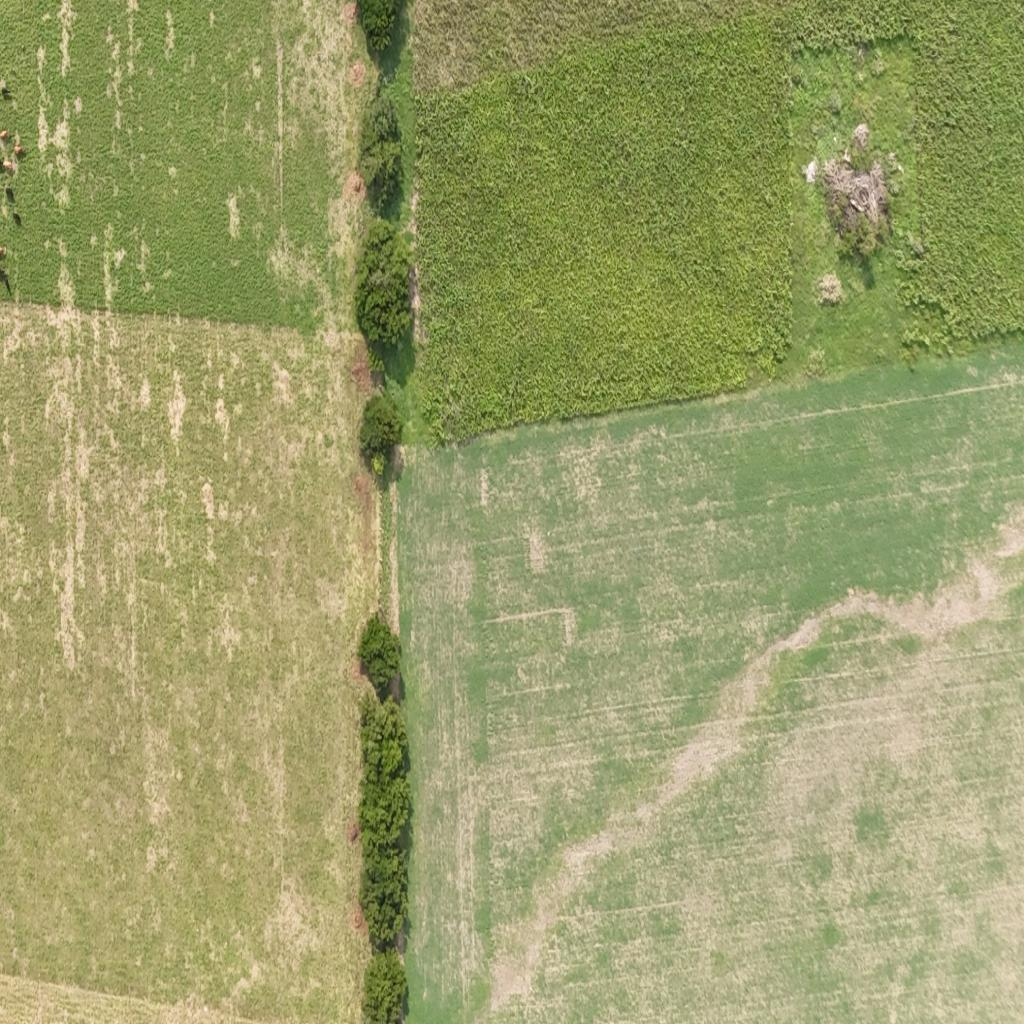cow: (6, 142, 32, 163), (0, 70, 14, 103), (0, 281, 23, 299), (2, 159, 15, 173), (5, 186, 15, 204), (10, 208, 21, 224), (0, 128, 10, 143), (0, 245, 8, 259)
